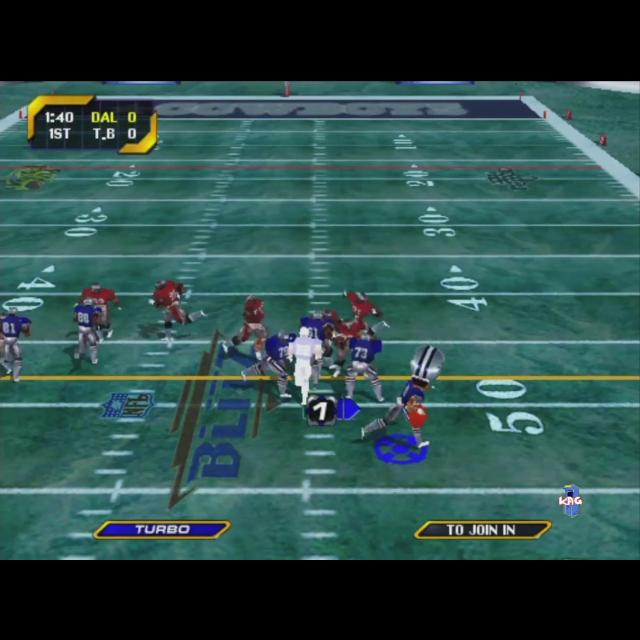player: (361, 344, 444, 448), (148, 278, 206, 346), (240, 329, 298, 397), (221, 294, 267, 360), (340, 289, 390, 347), (347, 330, 387, 402), (290, 326, 322, 406), (0, 306, 32, 382), (328, 316, 370, 372), (80, 281, 122, 335), (299, 312, 335, 370), (73, 298, 103, 364), (311, 308, 341, 366)
